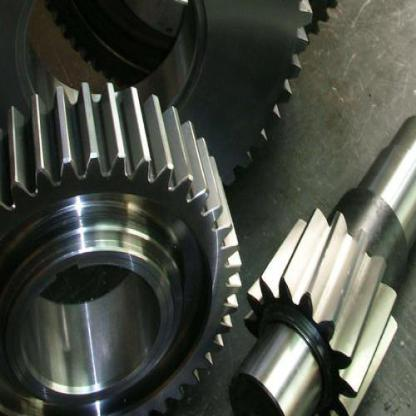FOD: (0, 74, 245, 414), (246, 204, 402, 415)
